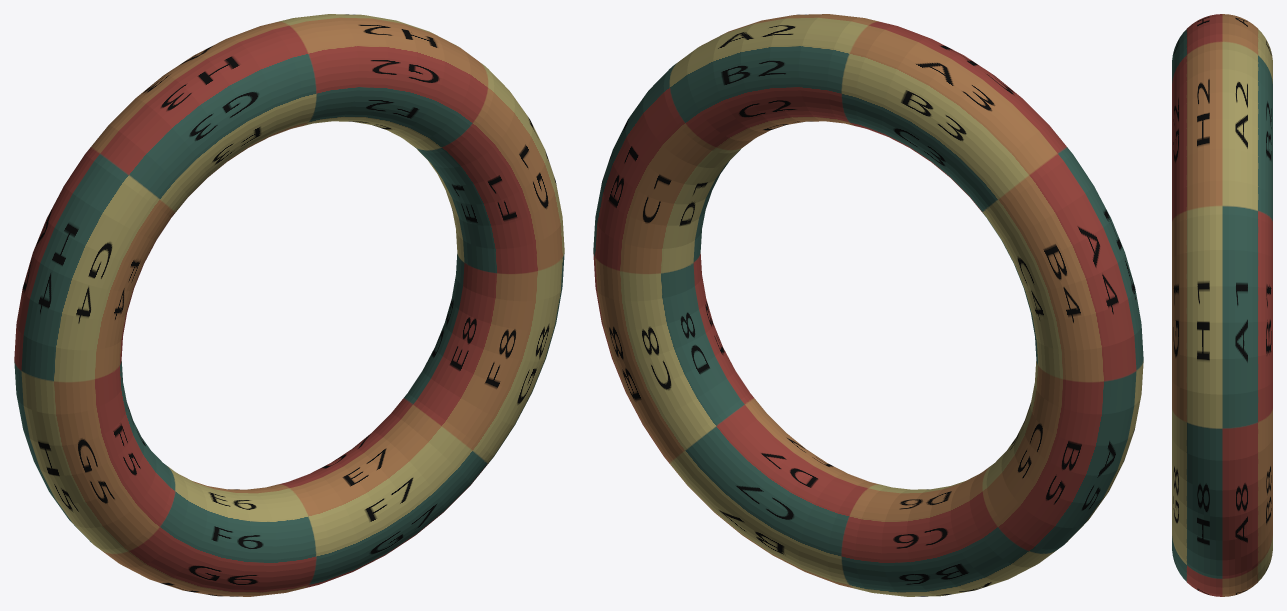
The model's file is texture_torus_R5_r3.glb.
The picture shows the model from 3 angles, left to right: view 1: azimuth 30°, elevation 25°; view 2: azimuth 150°, elevation 25°; view 3: azimuth 270°, elevation 25°; orthographic projection. The views are drawn at different scales.
Visible parts, largest first — view 1: world; view 2: world; view 3: world.
Boxes of the visible parts, box(x1,y1,x2,y2) form: world: box(14, 14, 564, 596); world: box(593, 14, 1143, 596); world: box(1172, 14, 1272, 596).
Bounding box in the file's own units: 16.13 × 16.1 × 2.79.
Materials: 1 (1 with a texture image).
